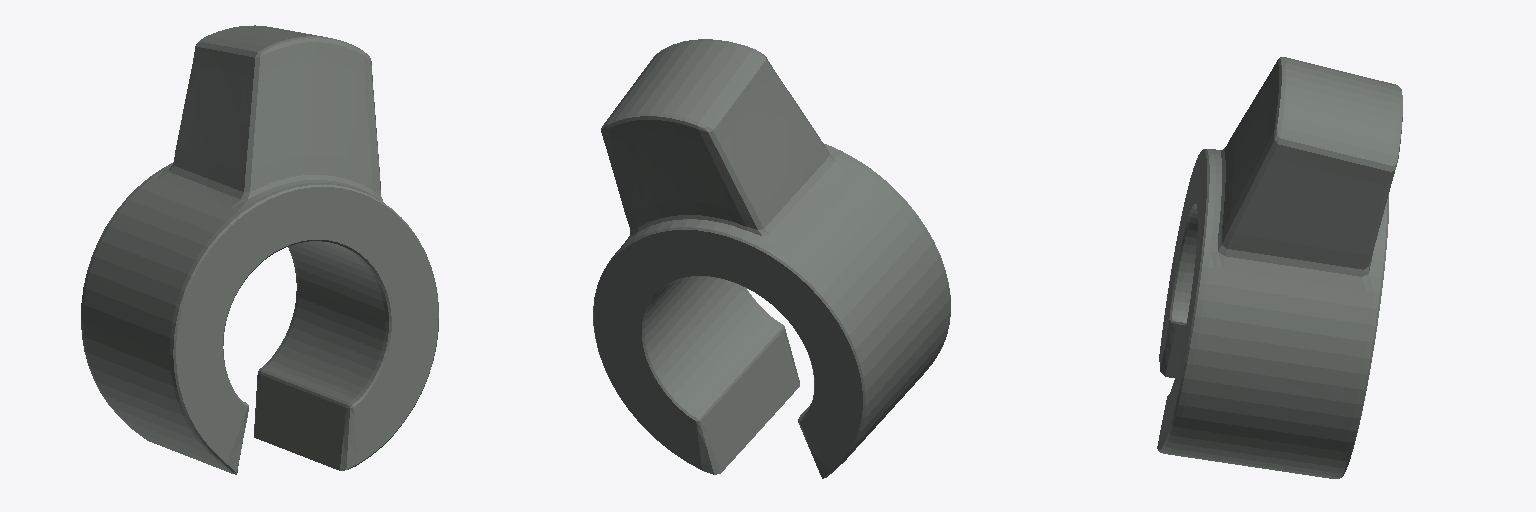
The picture shows the model from 3 angles: view 1: azimuth 30°, elevation 25°; view 2: azimuth 150°, elevation 25°; view 3: azimuth 270°, elevation 25°; orthographic projection.
Visible parts, largest first — view 1: ManoDer; view 2: ManoDer; view 3: ManoDer.
Part boxes in pixels (bbox=[...]): ManoDer: bbox=[81, 25, 438, 474]; ManoDer: bbox=[593, 39, 950, 478]; ManoDer: bbox=[1157, 57, 1402, 478].
Bounding box in the file's own units: 7.59 × 10.96 × 5.94.
1 materials, 1 textured.